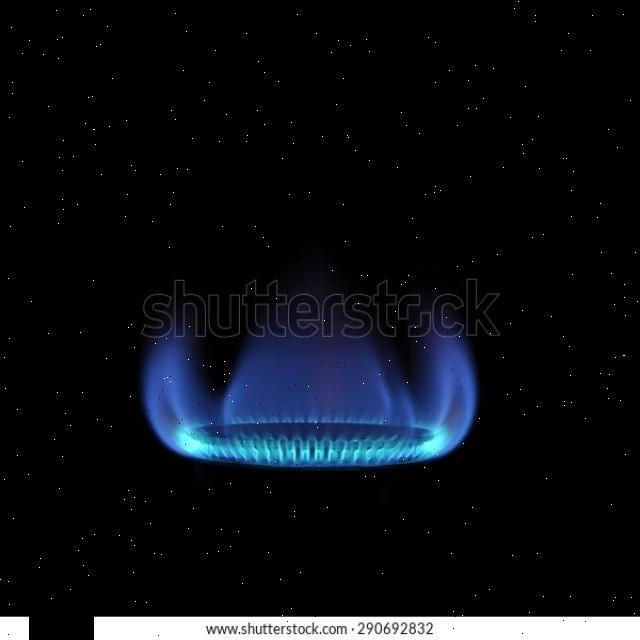Flame: (119, 298, 530, 479)
